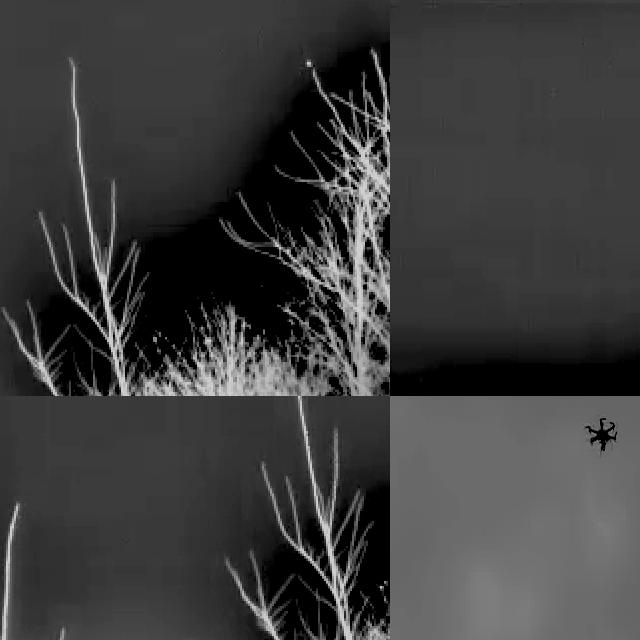0: (293, 52, 317, 80)
drone: (582, 413, 618, 456)
